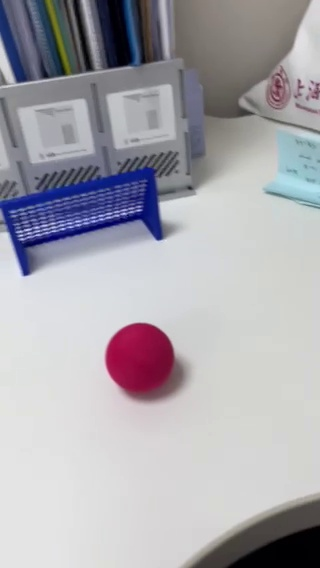goal: (3, 171, 166, 277)
redball: (106, 320, 179, 397)
